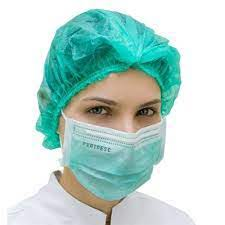with_mask_and_cap: (46, 9, 168, 202)
